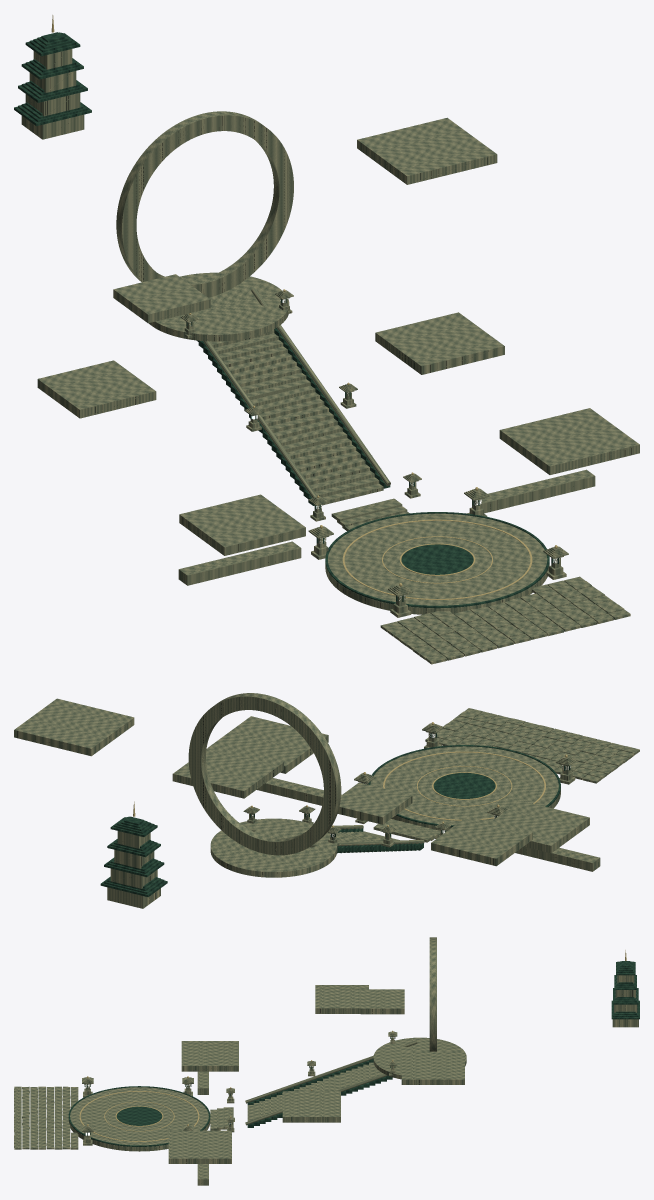
The model's file is SM_DBA_Sanctuary_Architecture.fbx.
3 views of the same model, one above another, from view 1: azimuth 30°, elevation 25°; view 2: azimuth 150°, elevation 25°; view 3: azimuth 270°, elevation 25° (orthographic). The views are drawn at different scales.
Parts seen in each view (by area): view 1: SM_DBA_Sanctuary_Architecture; view 2: SM_DBA_Sanctuary_Architecture; view 3: SM_DBA_Sanctuary_Architecture.
Part boxes in pixels (x1,y1,x2,y2): SM_DBA_Sanctuary_Architecture: (14,15,639,664); SM_DBA_Sanctuary_Architecture: (14,693,639,908); SM_DBA_Sanctuary_Architecture: (14,937,639,1185).
Bounding box in the file's own units: 3500 × 6178 × 1955.
4 materials, 2 textured.
